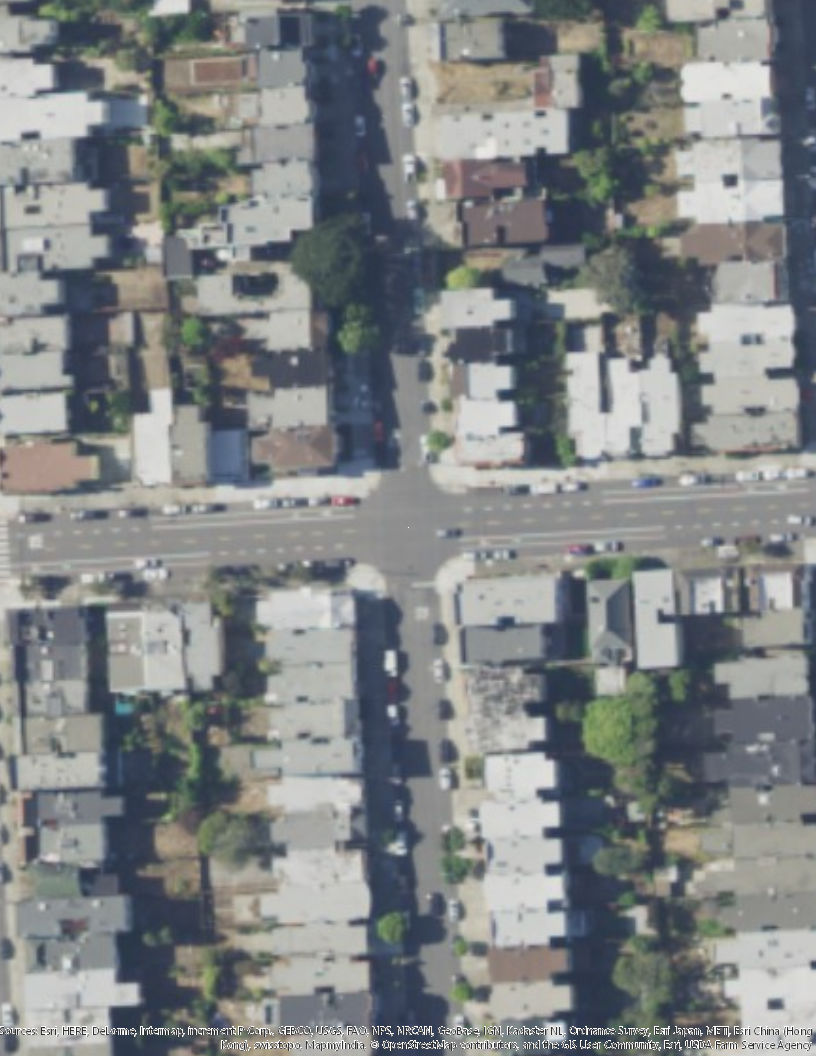zebracross: (1, 520, 12, 580)
